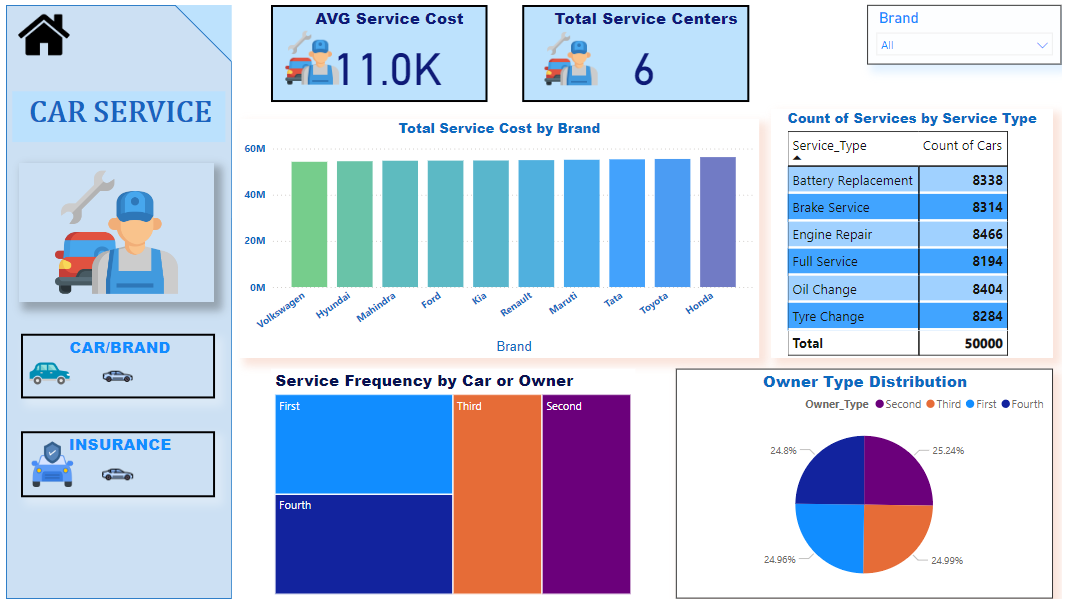

The dashboard page shown, as its layout file describes it:
{"tool":"powerbi","page":{"name":"SERVICES","canvas":[1280,720],"ordinal":4},"visuals":[{"type":"columnChart","title":"Total Service Cost by Brand","fields":{"Y":["Sum(public cars_master_data_sql.Service_Cost)"],"Category":["public cars_master_data_sql.Brand"]},"box":[283.9,137.6,629.3,289.8],"z":0},{"type":"pivotTable","title":"Count of Services by Service Type","fields":{"Rows":["public cars_master_data_sql.Service_Type"],"Values":["CountNonNull(public cars_master_data_sql.Car_ID)"]},"box":[927.7,126.2,341.5,301.5],"z":1000},{"type":"card","title":"Total Service Centers","fields":{"Values":["Count(public cars_master_data_sql.Service_Center)"]},"box":[626.1,0,275.4,117.4],"z":2000},{"type":"pieChart","title":"Owner Type Distribution","fields":{"Y":["CountNonNull(public cars_master_data_sql.Car_ID)"],"Category":["public cars_master_data_sql.Owner_Type"]},"box":[812.3,441.5,456.9,278.5],"z":3000},{"type":"treemap","title":"Service Frequency by Car or Owner","fields":{"Values":["Count(public cars_master_data_sql.Service_Date)"],"Group":["public cars_master_data_sql.Owner_Type"]},"box":[321.5,441.5,441.5,278.5],"z":4000},{"type":"card","title":"AVG Service Cost","fields":{"Values":["Avg(public cars_master_data_sql.Service_Cost)"]},"box":[321.7,0,262.3,117.4],"z":5000},{"type":"image","box":[667.7,26.2,118.5,78.5],"z":6000},{"type":"image","box":[341.5,24.6,100,80],"z":7000},{"type":"slicer","fields":{"Values":["public cars_master_data_sql.Brand"]},"box":[1044.6,0,235.4,72.3],"z":8000},{"type":"shape","box":[0,0,273.8,720],"z":9000},{"type":"textbox","box":[7.7,104.6,258.5,61.5],"z":10000},{"type":"image","box":[15.4,190.8,236.9,169.2],"z":11000},{"type":"image","box":[7.7,0,76.9,72.3],"z":12000},{"type":"image","title":"CAR/BRAND","box":[18.5,398.5,235.4,78.5],"z":13000},{"type":"image","title":"INSURANCE","box":[18.5,516.9,235.4,80],"z":14000},{"type":"image","box":[18.5,524.6,75.4,64.6],"z":15000},{"type":"image","box":[18.5,416.9,69.2,60],"z":16000}]}

Visuals, with their boxes in screenshot pixels (x1, y1, x2, y2), scaled from the page's 1280x720 canvas onto the 1065x608 screenshot:
"Total Service Cost by Brand" columnChart: l=236, t=116, r=760, b=361
"Count of Services by Service Type" pivotTable: l=772, t=107, r=1056, b=361
"Total Service Centers" card: l=521, t=0, r=750, b=99
"Owner Type Distribution" pieChart: l=676, t=373, r=1056, b=607
"Service Frequency by Car or Owner" treemap: l=267, t=373, r=635, b=607
"AVG Service Cost" card: l=268, t=0, r=486, b=99
image: l=556, t=22, r=654, b=88
image: l=284, t=21, r=367, b=88
slicer - public cars_master_data_sql.Brand: l=869, t=0, r=1064, b=61
shape: l=0, t=0, r=228, b=607
textbox: l=6, t=88, r=221, b=140
image: l=13, t=161, r=210, b=304
image: l=6, t=0, r=70, b=61
"CAR/BRAND" image: l=15, t=337, r=211, b=403
"INSURANCE" image: l=15, t=436, r=211, b=504
image: l=15, t=443, r=78, b=498
image: l=15, t=352, r=73, b=403
